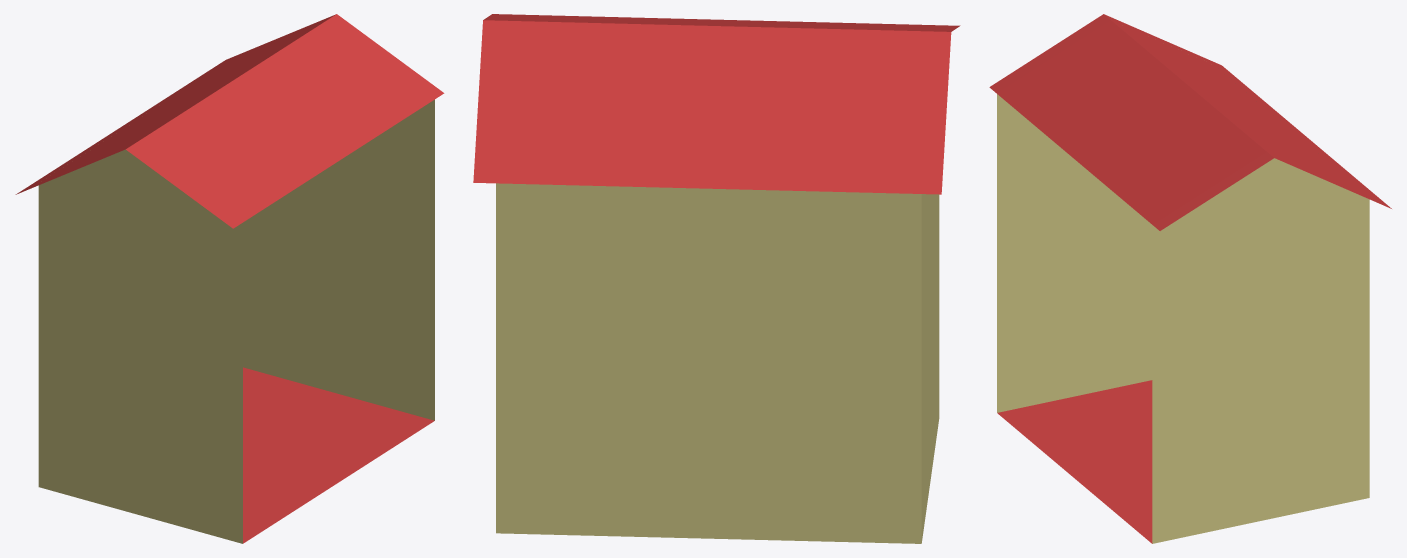
3 views of the same model, side by side, from view 1: azimuth 30°, elevation 25°; view 2: azimuth 150°, elevation 25°; view 3: azimuth 270°, elevation 25° (orthographic). The views are drawn at different scales.
Bounding box in the file's own units: 6.6 × 5.83 × 5.87.
